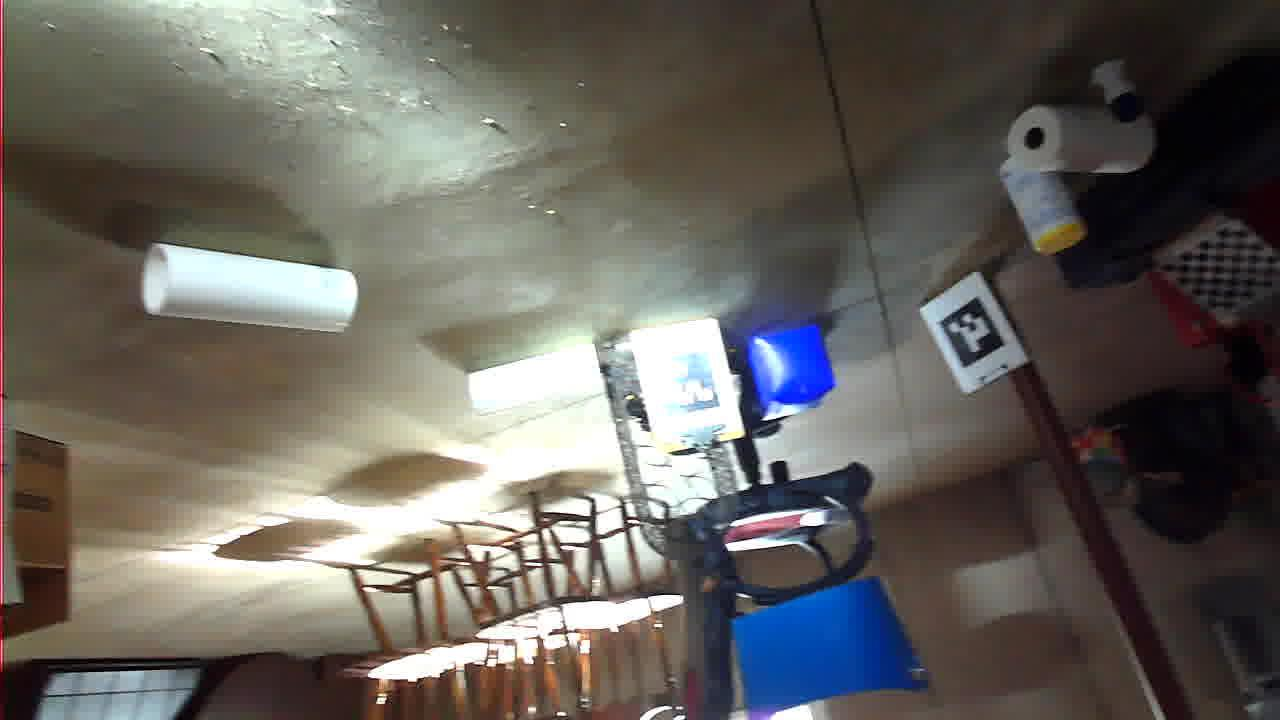coral: (922, 388, 1139, 477), (705, 313, 812, 367)
